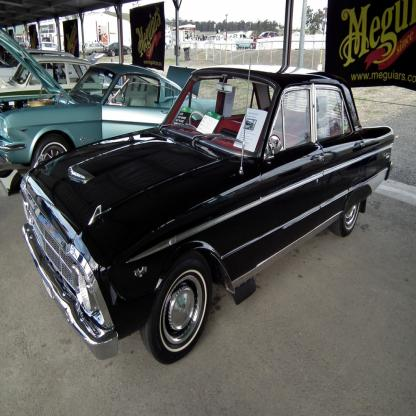Car: (20, 62, 398, 367), (1, 24, 220, 196), (1, 55, 125, 93), (106, 42, 133, 57), (39, 40, 61, 54), (85, 41, 105, 55)
